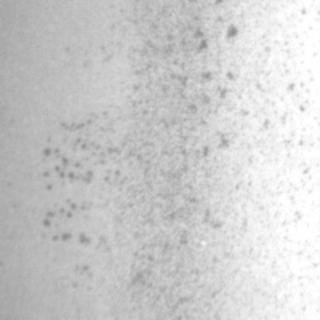pitted_surface: (38, 0, 312, 286)
